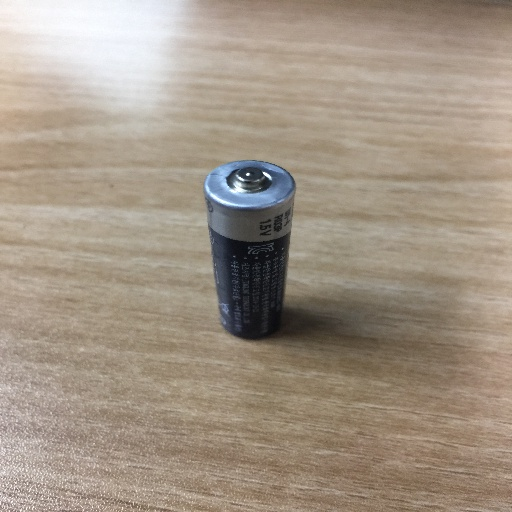Battery_0: (195, 147, 312, 365)
